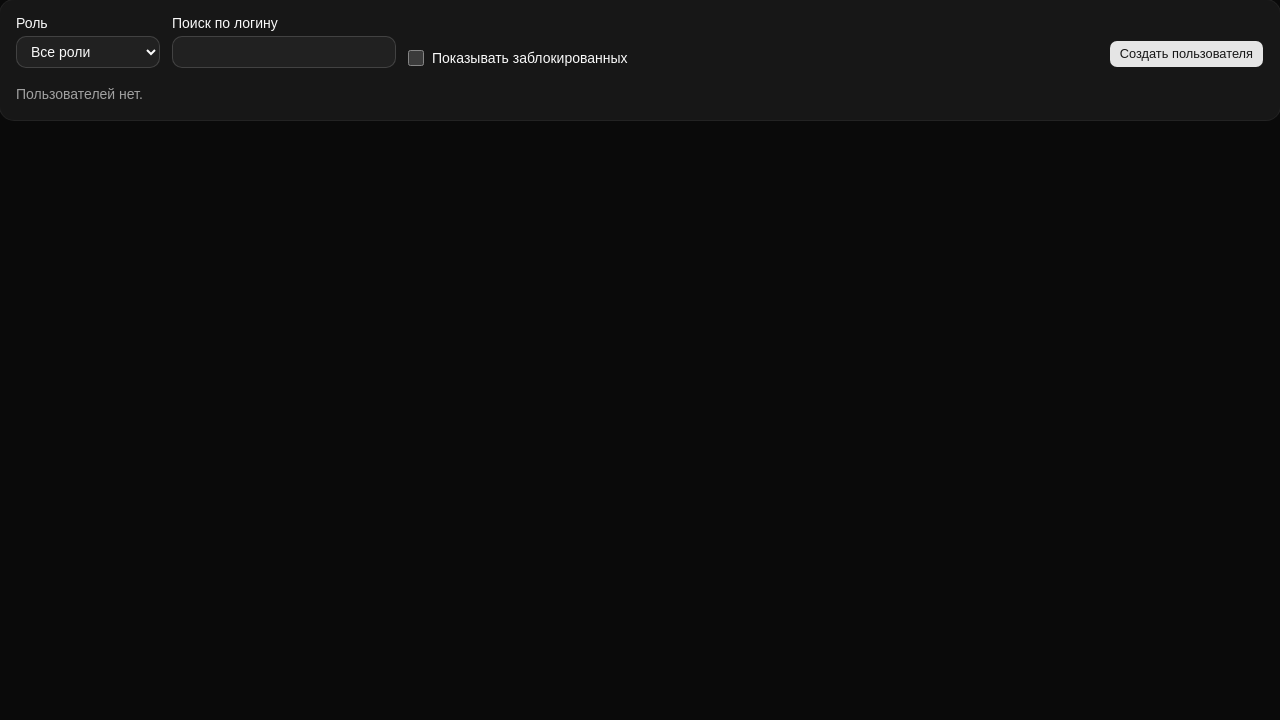
Test case: UsersTab › shows the empty state and creates a new user
Expected: the text "Пользователей нет." is shown, [16,86,143,102]
Click the button "Создать пользователя": (1186, 54) [1109,40,1264,68]
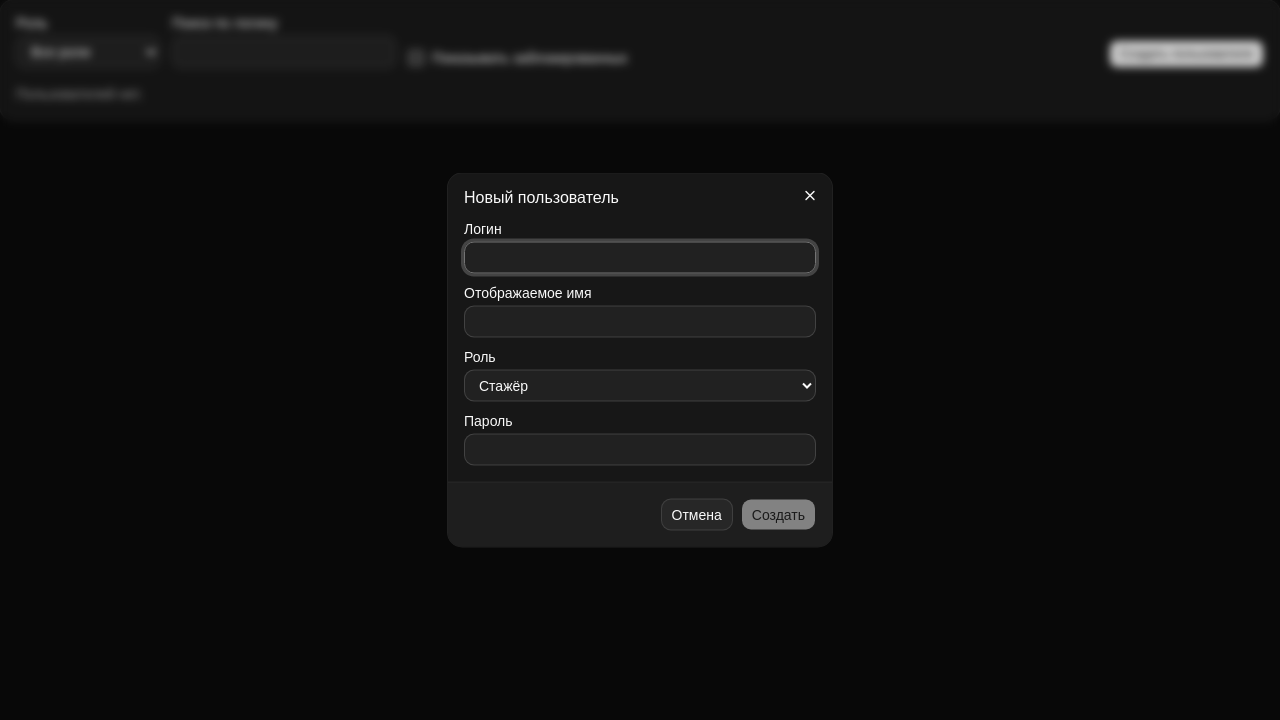
In the field labelled "Логин": (640, 258) [464,242,816,274], type "newuser"
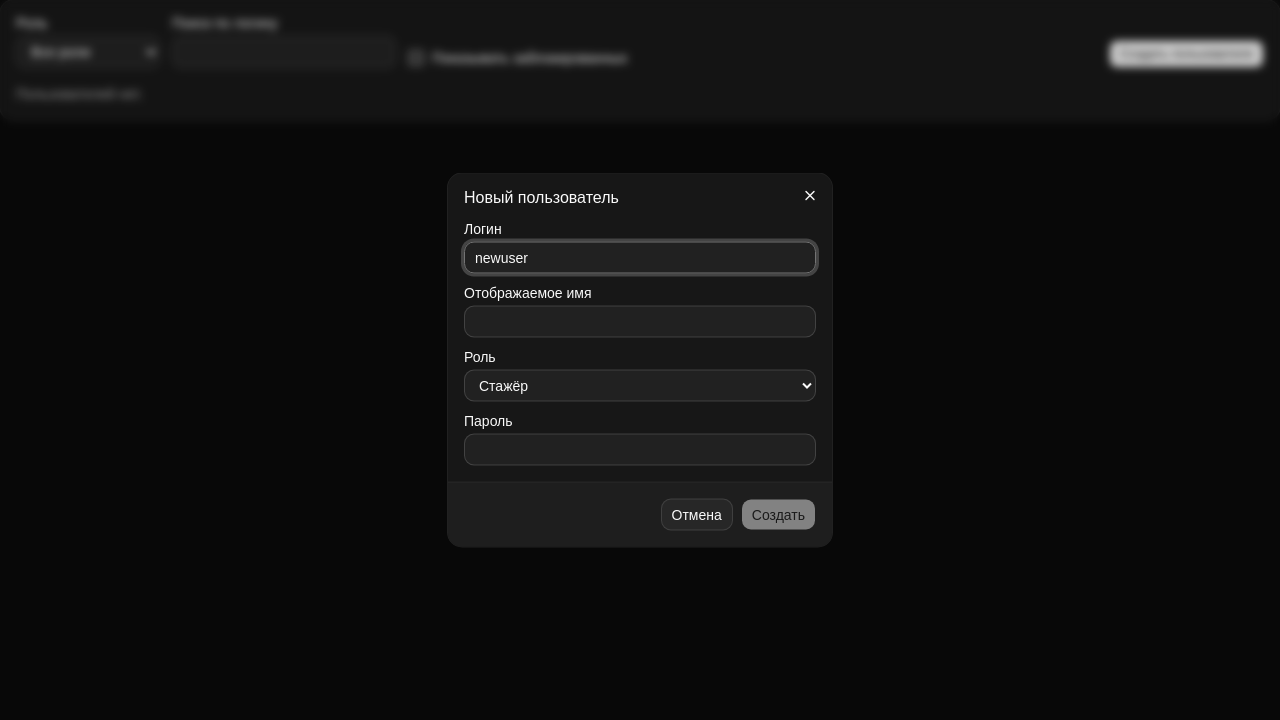
In the field labelled "Отображаемое имя": (640, 322) [464,306,816,338], type "New User"
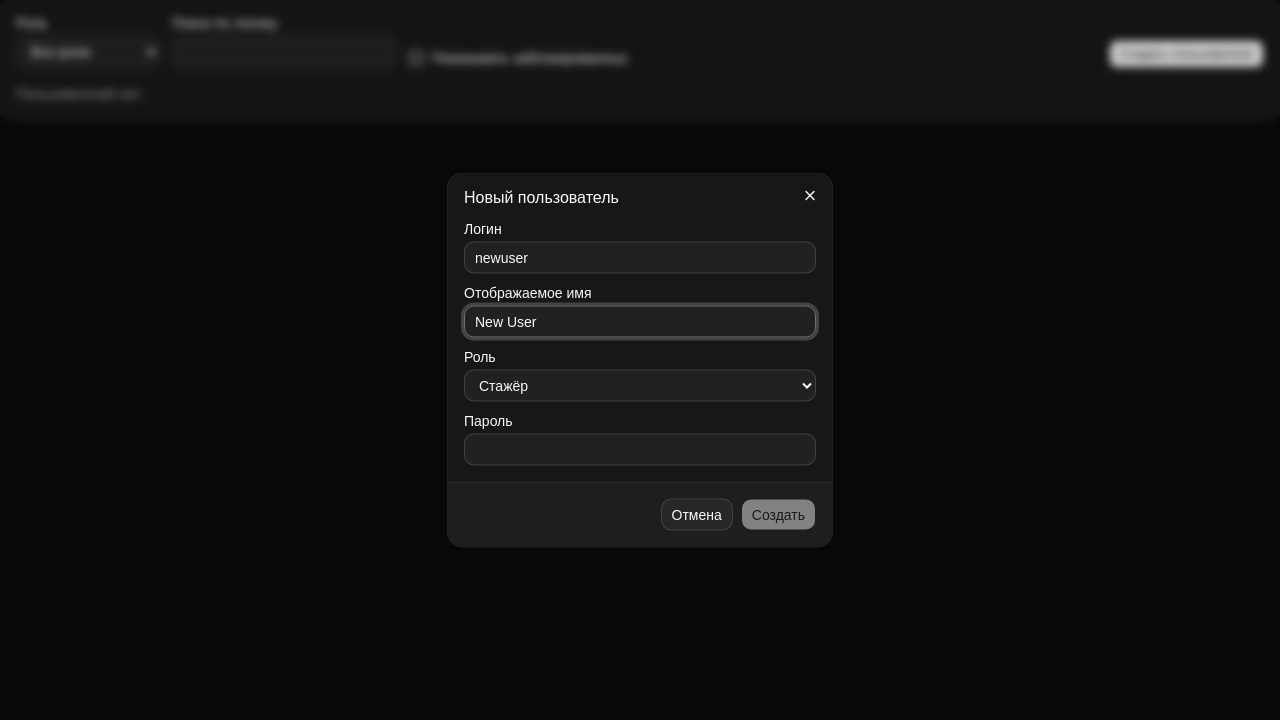
In the password field labelled "Пароль": (640, 450) [464,434,816,466], type "a-strong-password"
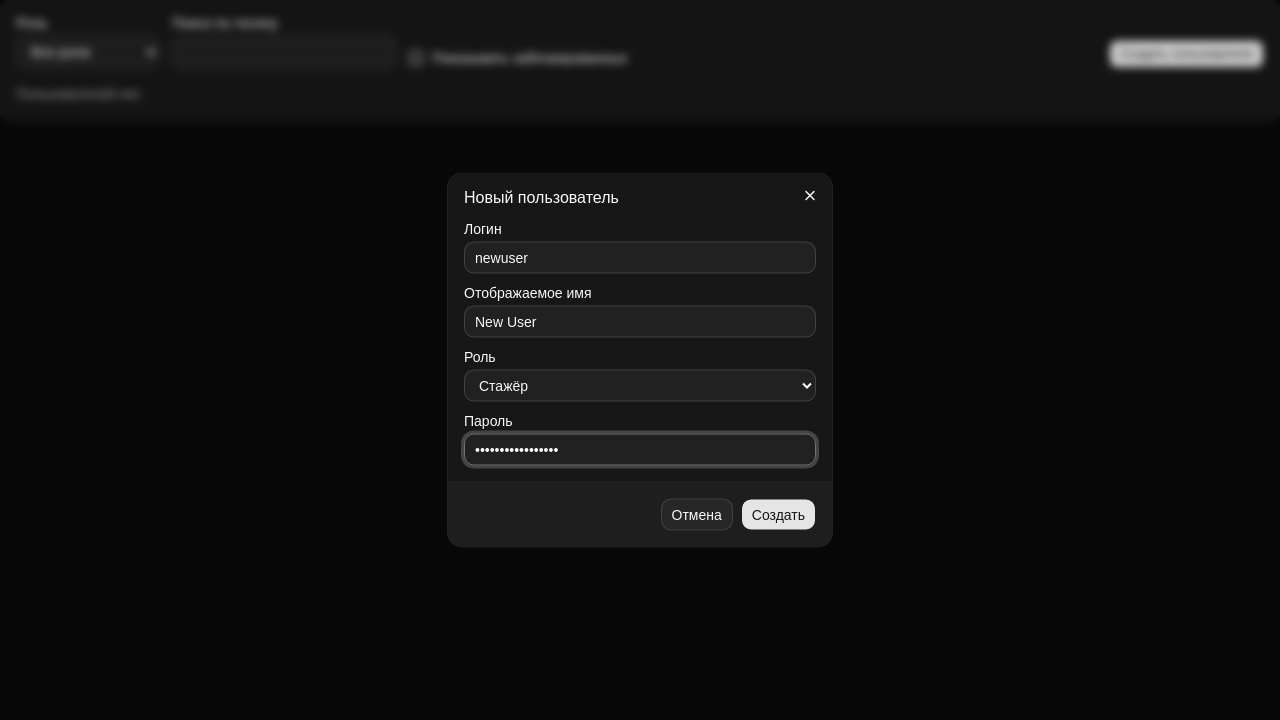
Click the button "Создать": (778, 514) [741,498,816,530]
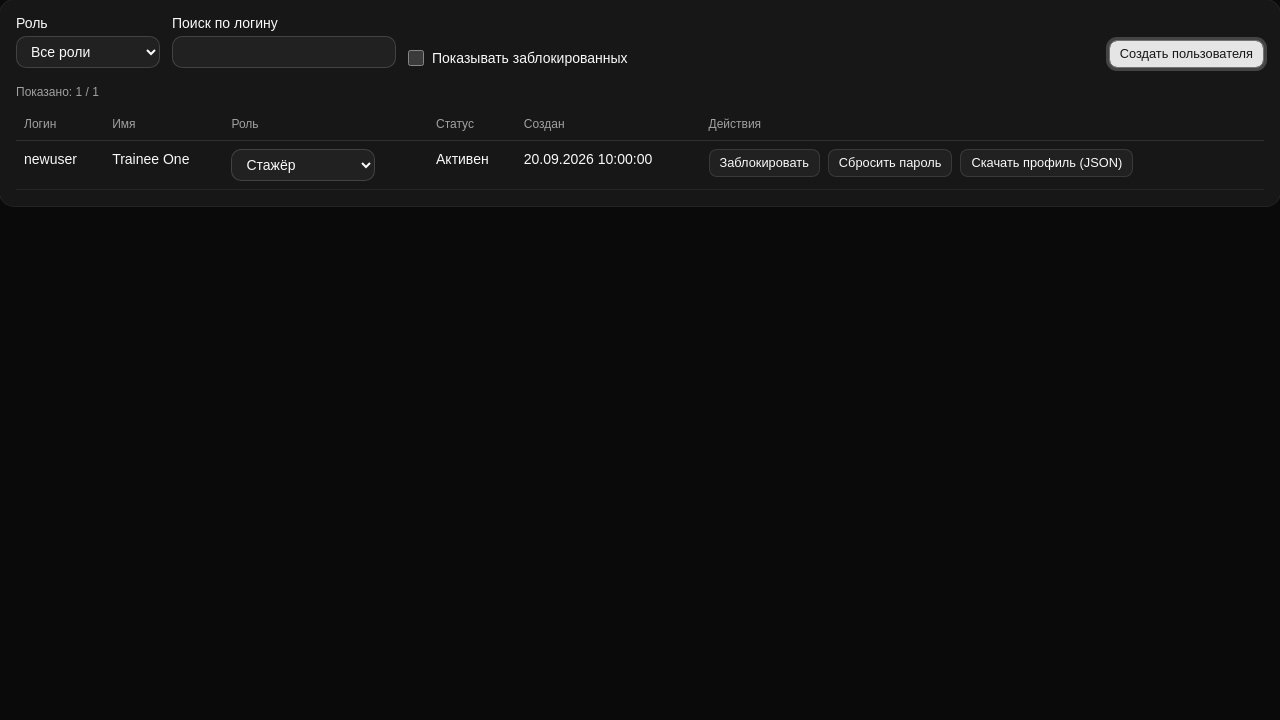
Expected: the text "newuser" is shown, [16,140,104,190]
